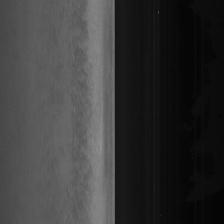silk_spot: (67, 49, 95, 221)
